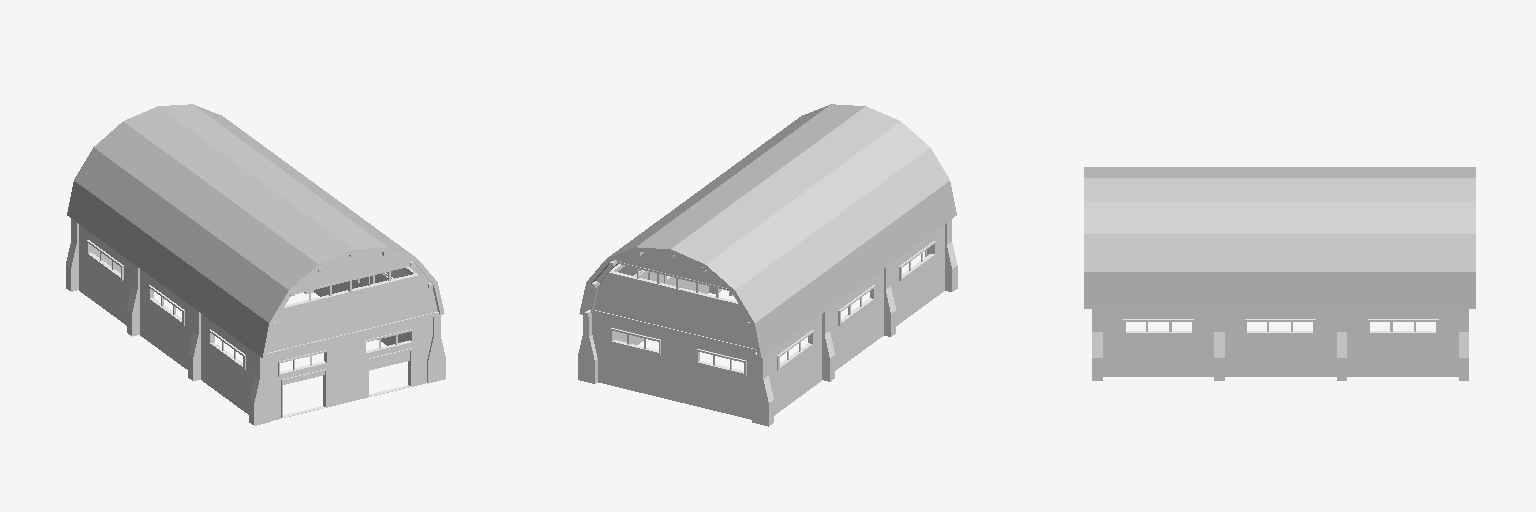
The model's file is ind6_hall1_lod.obj.
3 views of the same model, side by side, from view 1: azimuth 30°, elevation 25°; view 2: azimuth 150°, elevation 25°; view 3: azimuth 270°, elevation 25° (orthographic).
Visible parts, largest first — view 1: Mesh; view 2: Mesh; view 3: Mesh.
Part boxes in pixels (bbox=[...]): Mesh: bbox=[66, 104, 445, 425]; Mesh: bbox=[578, 104, 957, 426]; Mesh: bbox=[1084, 167, 1475, 380].
Bounding box in the file's own units: 23.15 × 18.14 × 41.02.